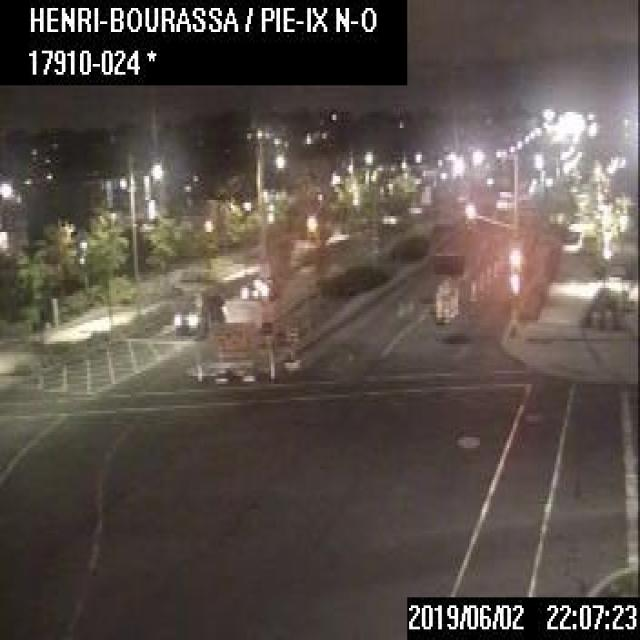construction: (194, 298, 272, 384), (430, 249, 463, 320), (433, 291, 441, 320), (452, 284, 459, 314), (442, 293, 449, 322)
vehicle: (171, 296, 213, 333)
